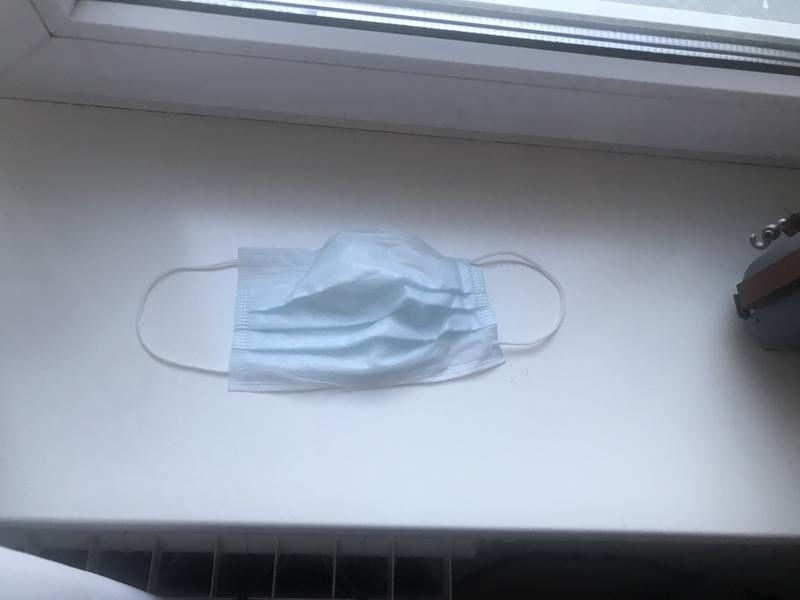medical_mask: (136, 242, 565, 377)
